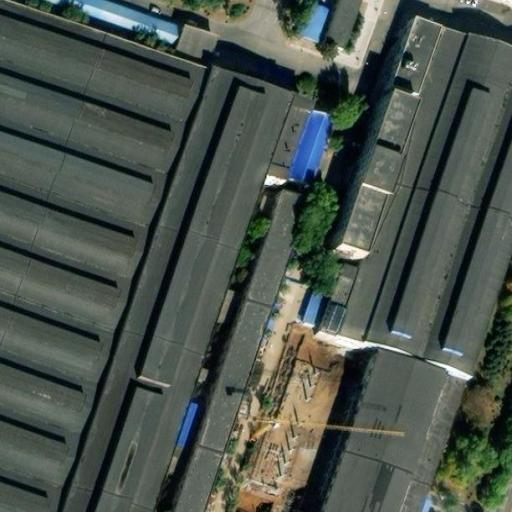building: (323, 23, 512, 375), (303, 341, 443, 512), (245, 321, 353, 486), (328, 102, 404, 265), (165, 18, 303, 93), (378, 17, 422, 93), (305, 256, 345, 331), (327, 0, 354, 53)
